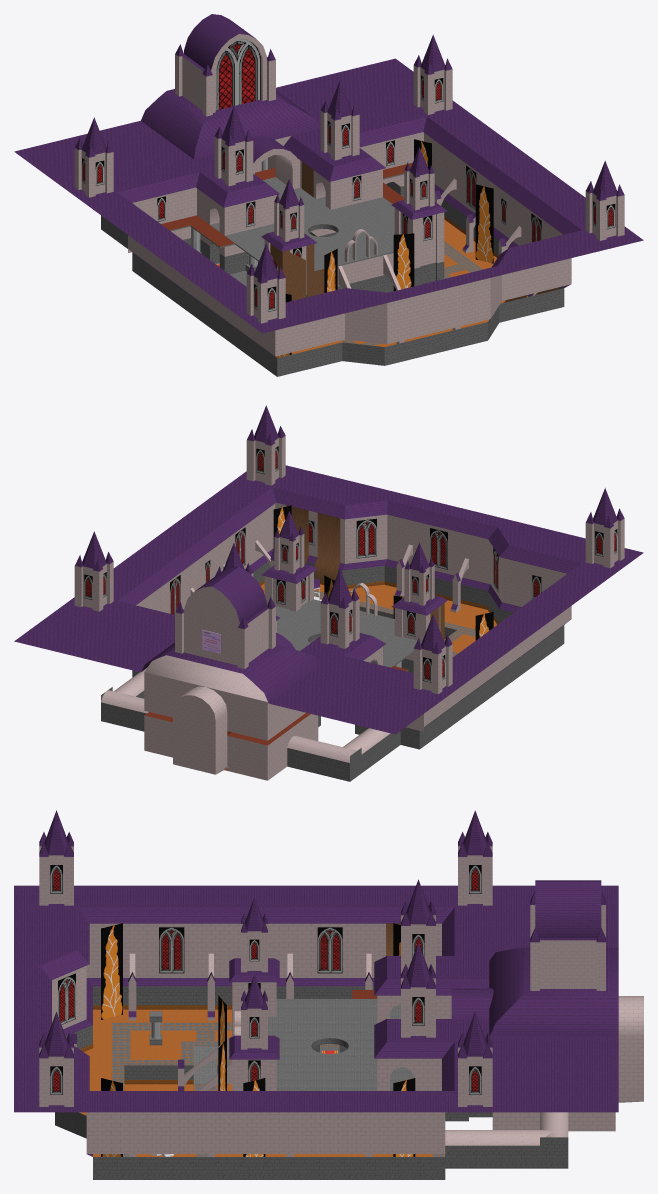
File: weddingquake.glb
3 renders of one model, top to bottom at view 1: azimuth 30°, elevation 25°; view 2: azimuth 150°, elevation 25°; view 3: azimuth 270°, elevation 25°, orthographic. The views are drawn at different scales.
Visible parts, largest first — view 1: roof, wallSouth, wallEast, towerMiddle, roofTop, upperFloor, wallWest, buildingEast, buildingWest, towerEast, wallNW, wallNE (+18 smaller); view 2: roof, wallSouth, towerMiddle, wallEast, wallWest, chapelBack, chapelLower, chapelUpper, hallwayWest, roofTop, upperFloor, chapelCeiling (+15 smaller); view 3: roof, wallEast, wallWest, upperFloor, roofTop, towerMiddle, gardenWest, wallSouth, hallwayEast, buildingEast, chapelBack, spire (+20 smaller).
Part boxes in pixels (x1,y1,x2,y2): roof: (14,58,643,333); wallSouth: (275,248,571,376); wallEast: (423,117,581,289); towerMiddle: (175,14,275,116); roofTop: (141,89,320,159); upperFloor: (210,177,394,270); wallWest: (128,235,277,376); buildingEast: (283,136,385,209); buildingWest: (196,172,279,235); towerEast: (391,200,447,286); wallNW: (117,172,199,252); wallNE: (359,116,426,197); roof: (14,465,643,734); wallSouth: (272,487,581,623); towerMiddle: (175,566,275,668); wallEast: (117,487,275,614); wallWest: (419,606,571,748); chapelBack: (173,682,227,774); chapelLower: (144,714,318,780); chapelUpper: (144,672,305,740); hallwayWest: (287,728,400,781); roofTop: (141,642,321,703); upperFloor: (267,599,421,667); chapelCeiling: (144,655,267,701); roof: (14,885,618,1112); wallEast: (86,1112,445,1179); wallWest: (77,907,454,1008); upperFloor: (268,999,413,1090); roofTop: (489,947,618,1036); towerMiddle: (530,880,605,990); gardenWest: (93,1009,339,1083); wallSouth: (39,907,92,1156); hallwayEast: (445,1112,568,1168); buildingEast: (374,1019,454,1090); chapelBack: (618,996,643,1101); spire: (458,1012,492,1106).
Bounding box in the file's own units: 40.8 × 19.44 × 47.94.
44 materials, 44 textured.
